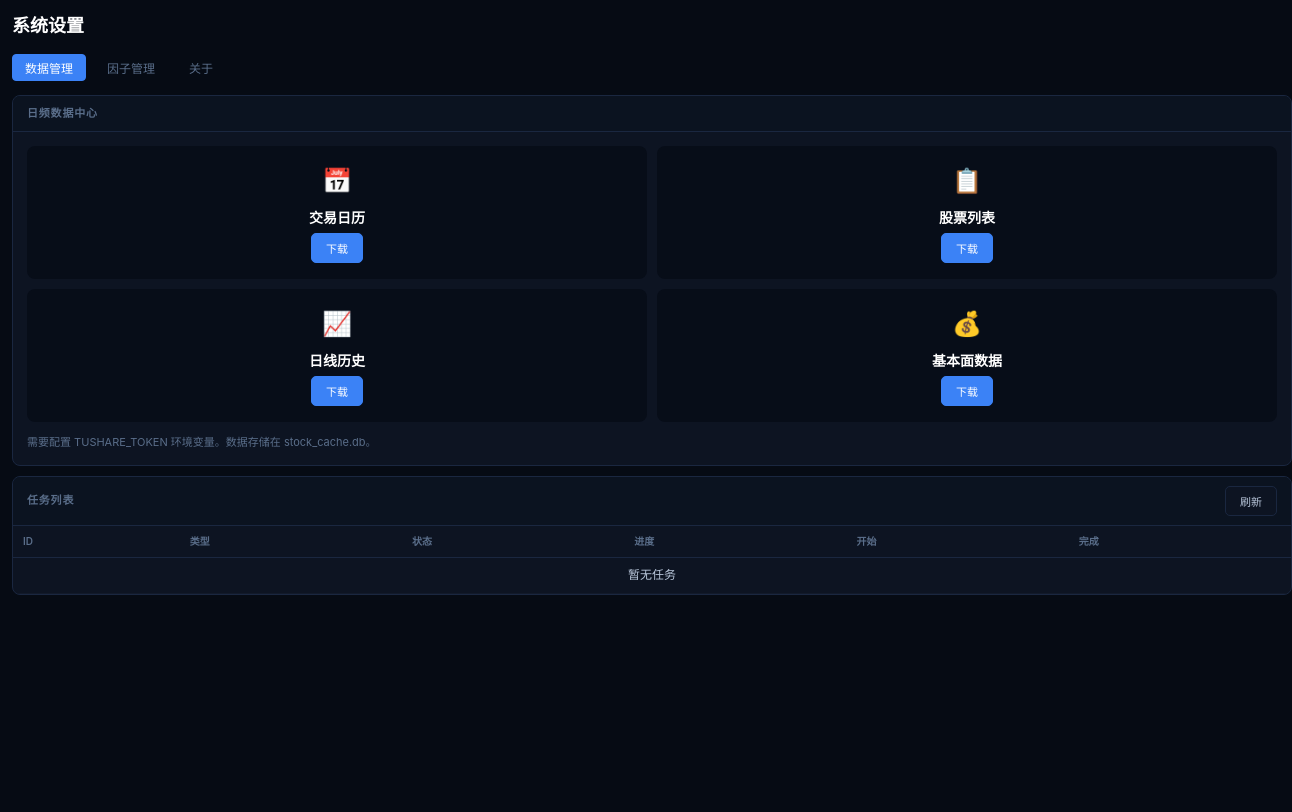
it: Settings › renders factor items from API
Click the button "因子管理" at coordinates (131, 67), box [94, 54, 168, 81]
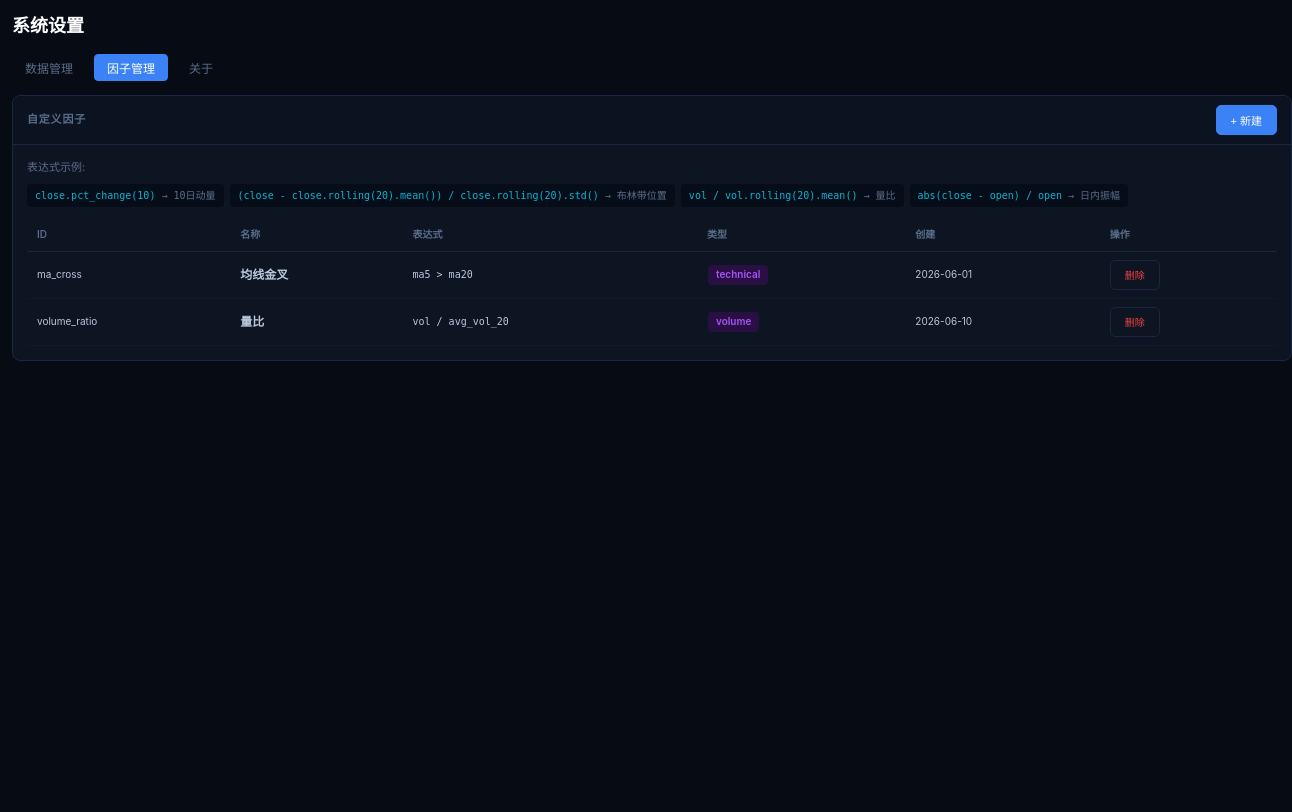
Now the text "均线金叉" is shown, box [230, 251, 402, 298]
Now the text "量比" is shown, box [230, 298, 402, 345]
